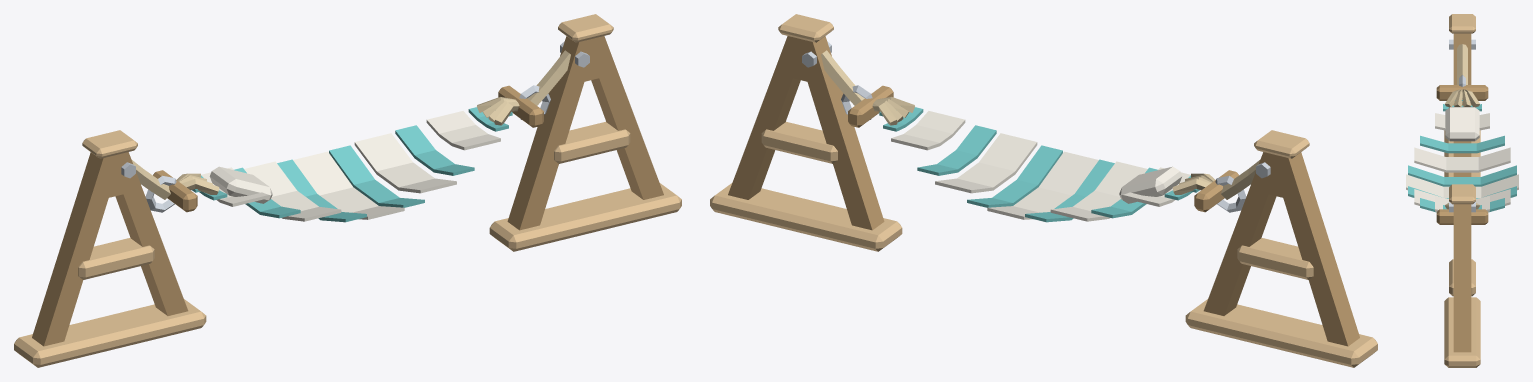
File: Hammock.fbx
3 renders of one model, left to right at view 1: azimuth 30°, elevation 25°; view 2: azimuth 150°, elevation 25°; view 3: azimuth 270°, elevation 25°, orthographic. The views are drawn at different scales.
Visible parts, largest first — view 1: Hammock.Timber, Hammock.Rails, Hammock.Weave, Hammock.Bed, Hammock.Cords, Hammock.Rings; view 2: Hammock.Timber, Hammock.Rails, Hammock.Weave, Hammock.Bed, Hammock.Cords, Hammock.Rings; view 3: Hammock.Weave, Hammock.Timber, Hammock.Rails, Hammock.Bed, Hammock.Cords, Hammock.Rings.
Boxes of the visible parts, x1=… form: Hammock.Timber: x1=32, y1=36, x2=663, y2=346; Hammock.Rails: x1=14, y1=14, x2=681, y2=367; Hammock.Weave: x1=201, y1=111, x2=500, y2=221; Hammock.Bed: x1=192, y1=107, x2=512, y2=222; Hammock.Cords: x1=132, y1=50, x2=570, y2=199; Hammock.Rings: x1=121, y1=41, x2=589, y2=212; Hammock.Timber: x1=728, y1=36, x2=1359, y2=346; Hammock.Rails: x1=710, y1=14, x2=1377, y2=367; Hammock.Weave: x1=891, y1=111, x2=1190, y2=221; Hammock.Bed: x1=879, y1=107, x2=1199, y2=222; Hammock.Cords: x1=821, y1=50, x2=1259, y2=199; Hammock.Rings: x1=802, y1=41, x2=1270, y2=212; Hammock.Weave: x1=1406, y1=107, x2=1518, y2=211; Hammock.Timber: x1=1436, y1=33, x2=1488, y2=352; Hammock.Rails: x1=1444, y1=14, x2=1480, y2=367; Hammock.Bed: x1=1408, y1=100, x2=1516, y2=212; Hammock.Cords: x1=1445, y1=44, x2=1479, y2=209; Hammock.Rings: x1=1449, y1=39, x2=1475, y2=212.
Size of the model in its own units: 10.64 by 3.16 by 2.18.
